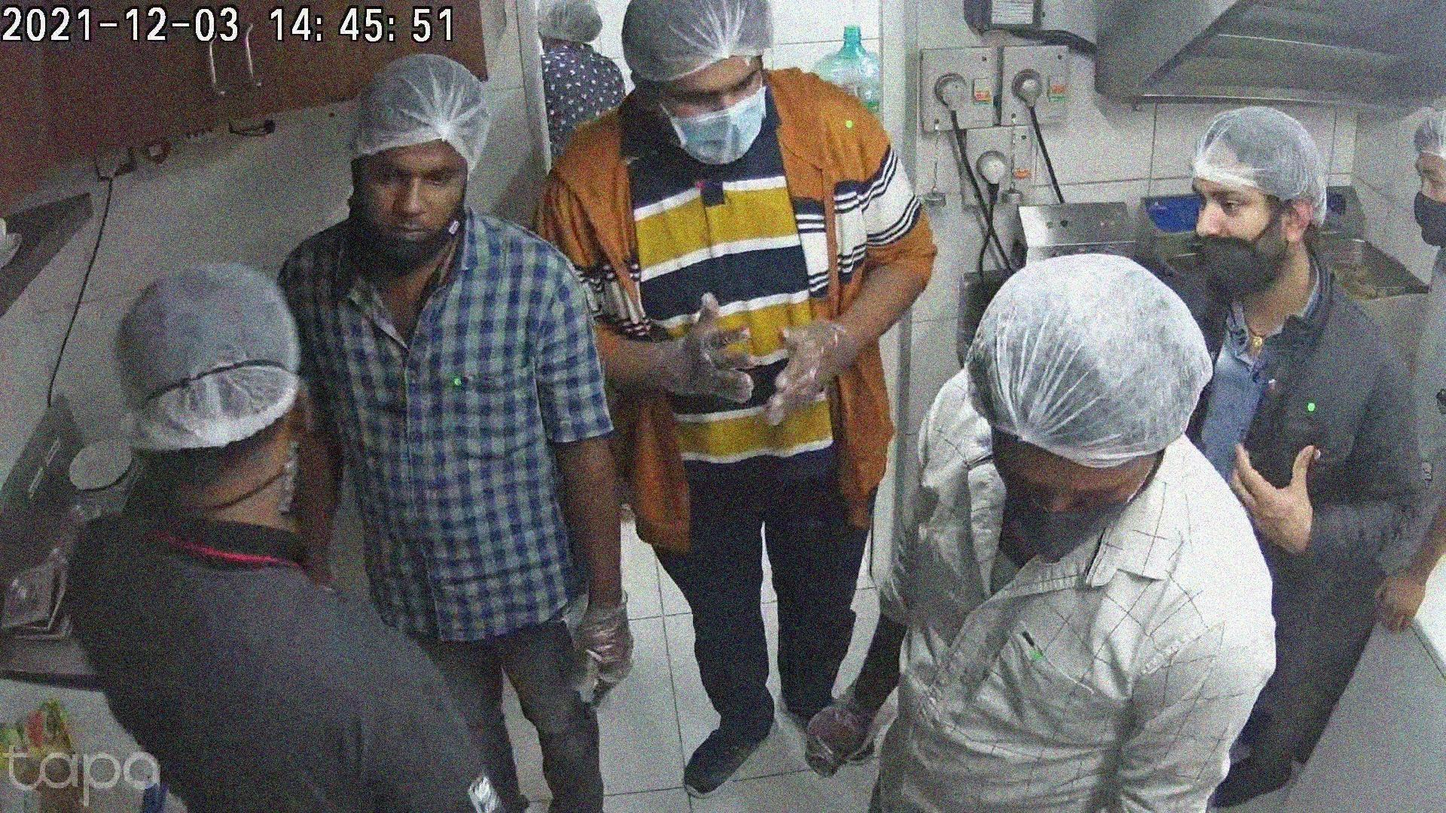apron: (644, 287, 760, 418), (548, 580, 666, 708), (796, 663, 910, 790), (765, 297, 866, 429)
gloves: (980, 262, 1216, 470), (101, 247, 309, 464), (329, 51, 522, 185), (1186, 99, 1339, 232), (624, 0, 795, 90), (508, 1, 613, 51), (1394, 106, 1446, 169)
mask: (999, 457, 1135, 555), (664, 73, 763, 158), (1402, 174, 1446, 257)
no_apron: (1221, 428, 1329, 559), (1374, 553, 1441, 646)
no_hairnet: (356, 138, 467, 238), (1193, 180, 1258, 250)
